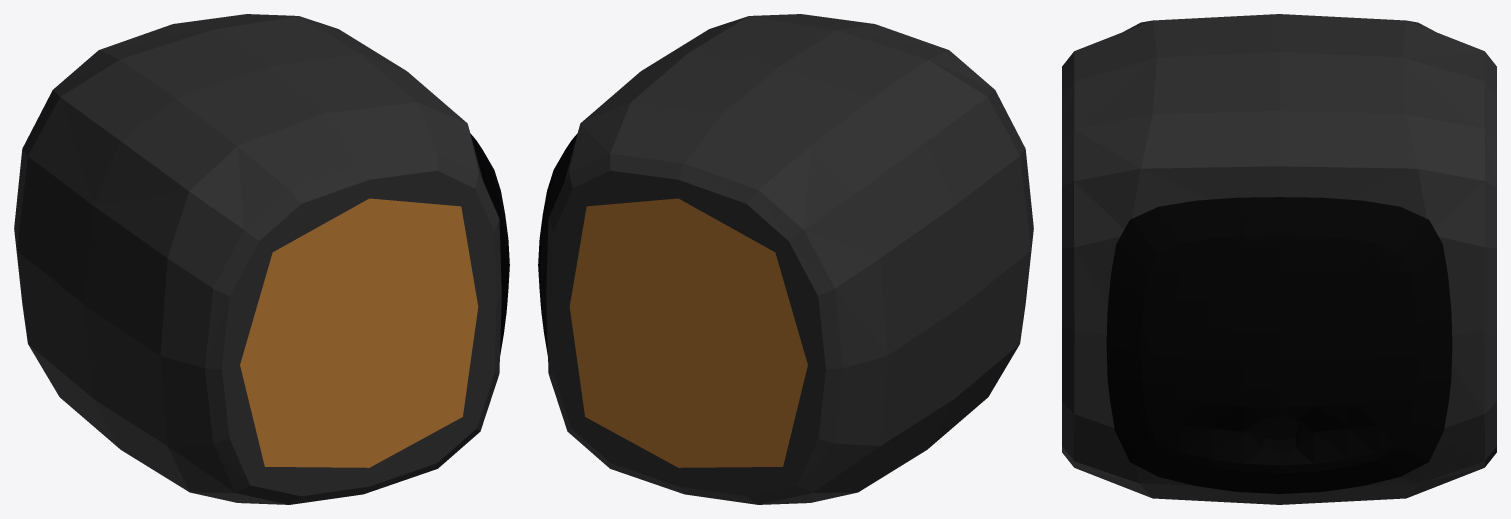
File: vector_head.dae
3 renders of one model, left to right at view 1: azimuth 30°, elevation 25°; view 2: azimuth 150°, elevation 25°; view 3: azimuth 270°, elevation 25°, orthographic. The views are drawn at different scales.
Parts seen in each view (by area): view 1: Cozmo_Head; view 2: Cozmo_Head; view 3: Cozmo_Head.
Part boxes in pixels (box(x1,y1,x2,y2)): Cozmo_Head: box(14, 14, 509, 504); Cozmo_Head: box(538, 14, 1033, 504); Cozmo_Head: box(1062, 14, 1496, 504).
Size of the model in its own units: 0.0366 by 0.0343 by 0.0361.
